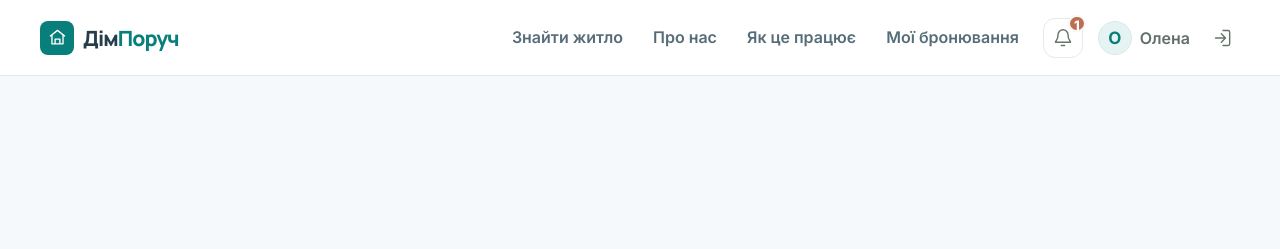
Test case: frontend integration flows › shows only unread notifications in the bell dropdown
Click the button named "Сповіщення". click: (1063, 38)
box: [1043,18,1083,58]
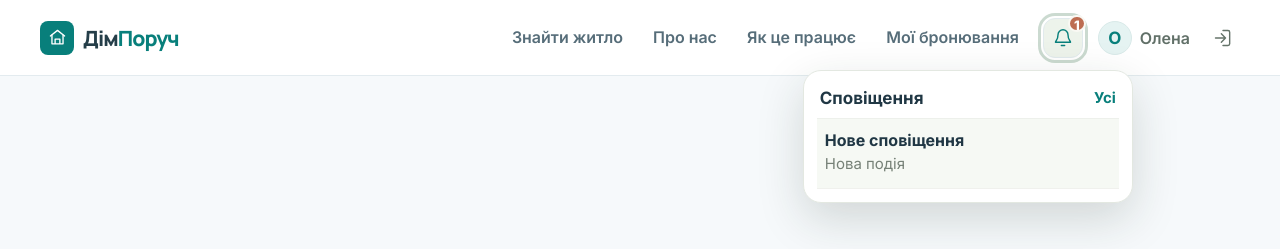
Expected: the text "Нове сповіщення" is shown, [825,130,964,150]
